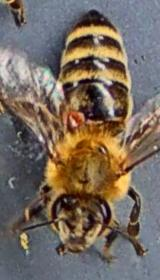varroa_mite: (65, 104, 87, 130)
